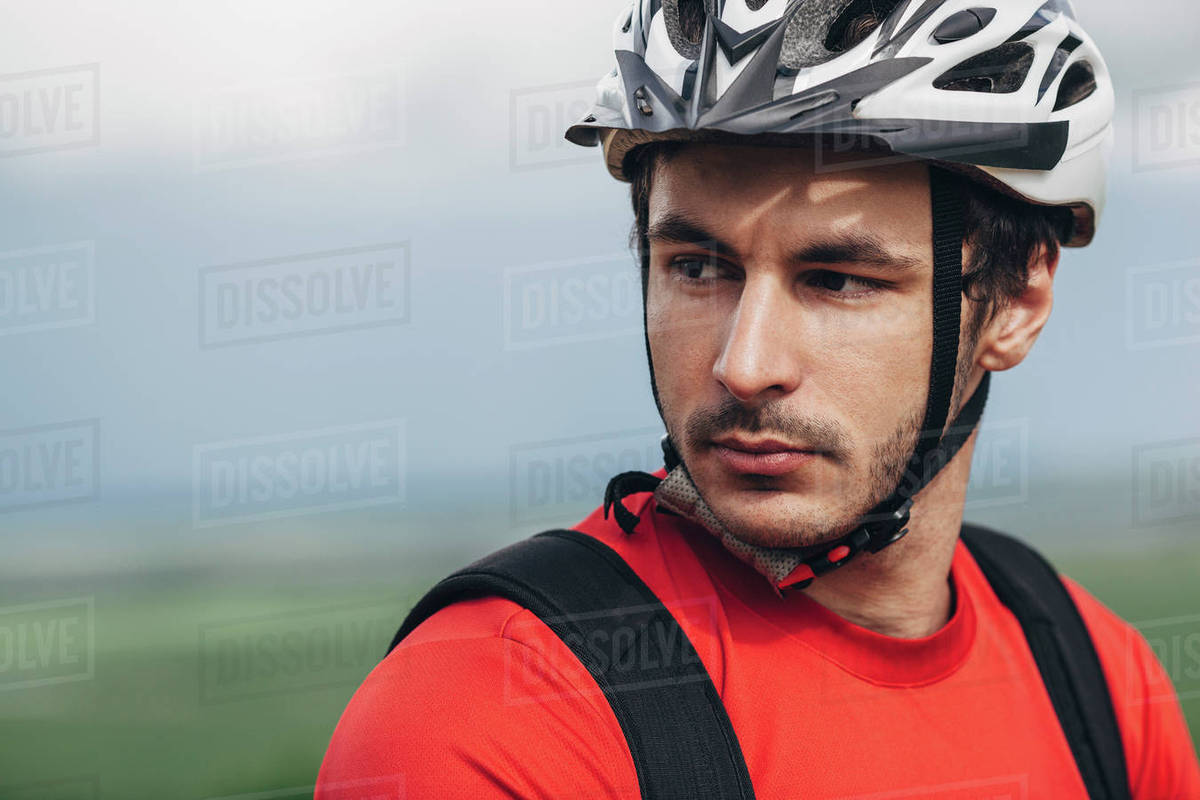helmet: (564, 1, 1116, 548)
